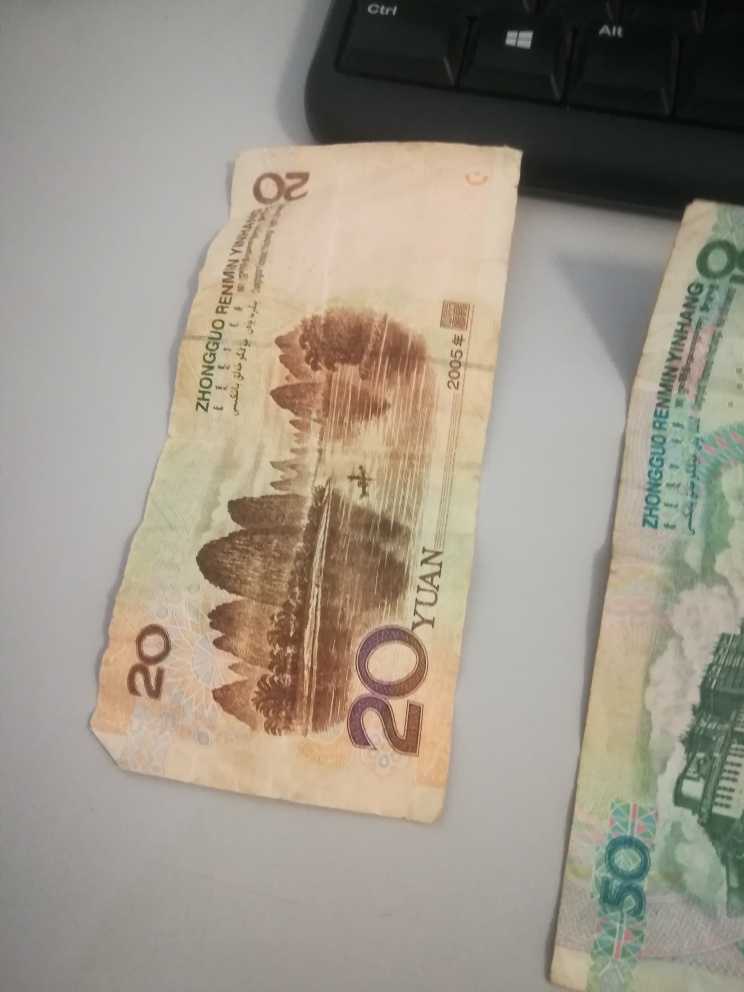rmb: (91, 104, 528, 818), (552, 200, 738, 992)
